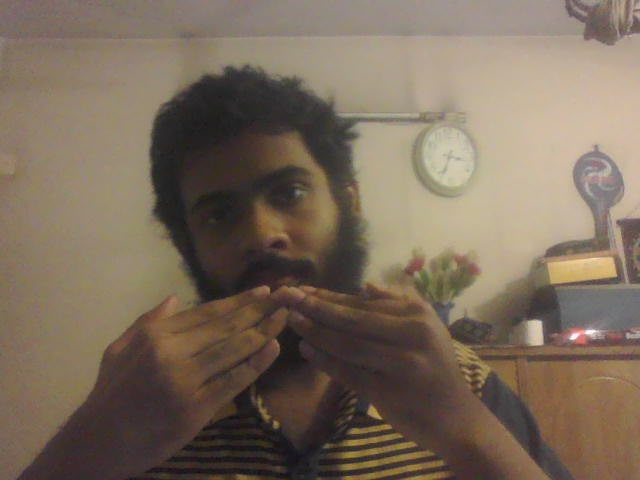Thank You: (80, 283, 472, 453)
